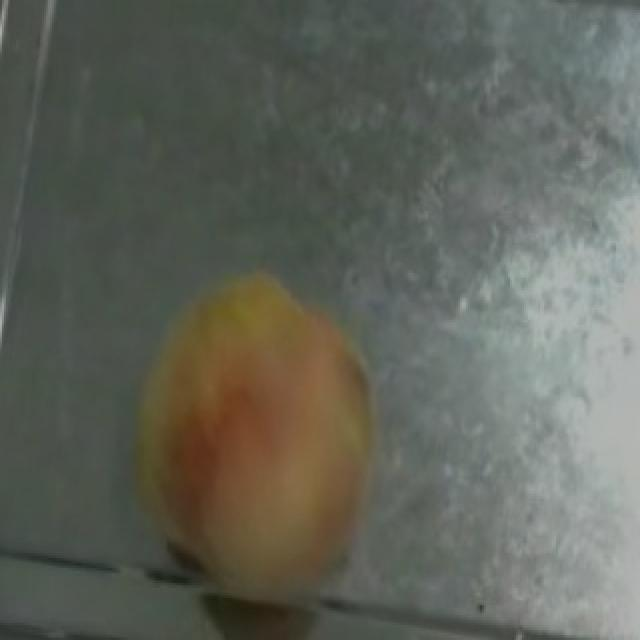Fruit: (98, 240, 408, 570)
